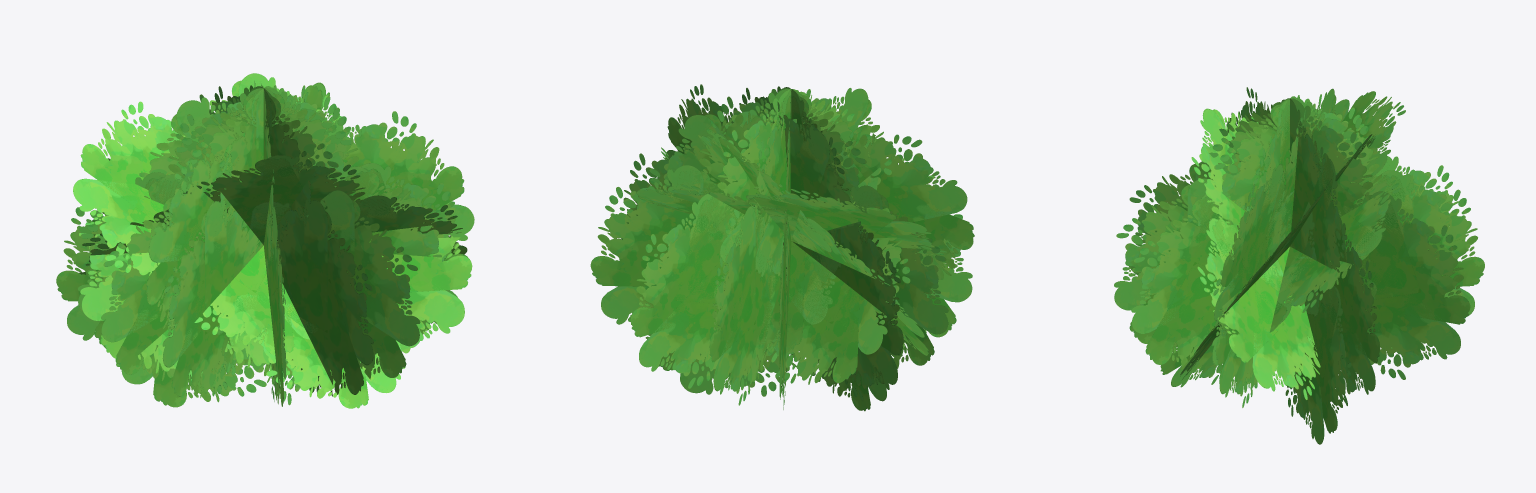
File: tree top.fbx
3 renders of one model, left to right at view 1: azimuth 30°, elevation 25°; view 2: azimuth 150°, elevation 25°; view 3: azimuth 270°, elevation 25°, orthographic. The views are drawn at different scales.
Visible parts, largest first — view 1: pPlane21; view 2: pPlane21; view 3: pPlane21.
Boxes of the visible parts, bbox=[...] form: pPlane21: bbox=[56, 73, 474, 408]; pPlane21: bbox=[590, 84, 974, 411]; pPlane21: bbox=[1114, 87, 1484, 444].
Size of the model in its own units: 544 by 526 by 539.
1 material, 1 textured.
